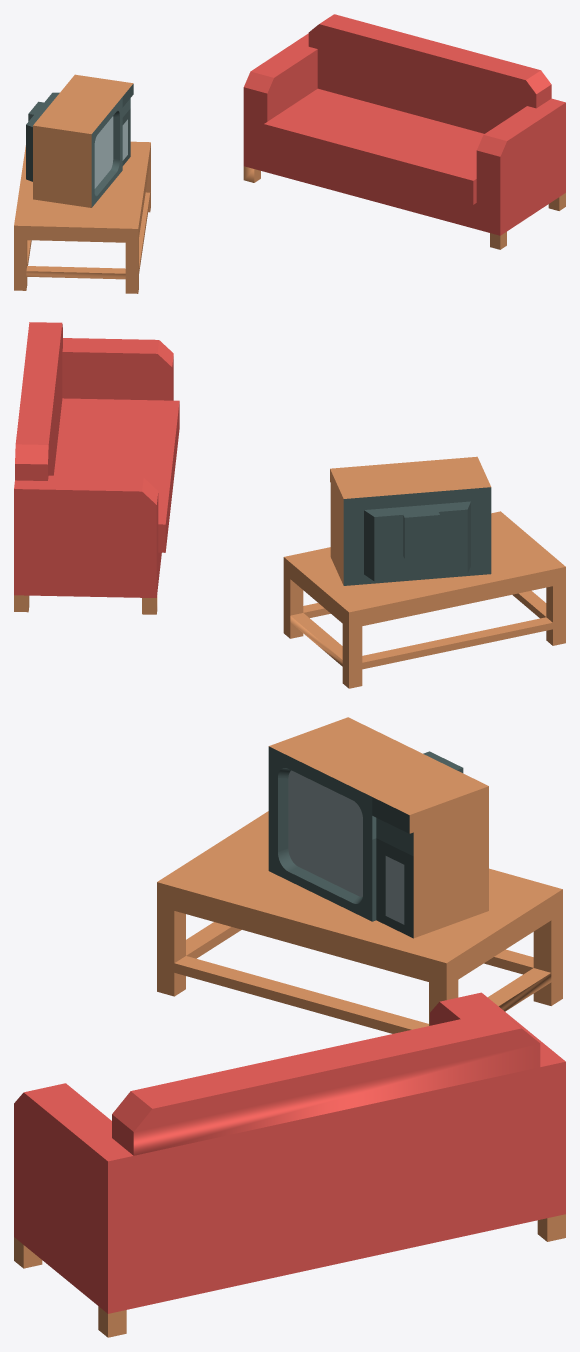
File: furnitures.obj
3 views of the same model, one above another, from view 1: azimuth 30°, elevation 25°; view 2: azimuth 150°, elevation 25°; view 3: azimuth 270°, elevation 25° (orthographic). The views are drawn at different scales.
Visible parts, largest first — view 1: loungeSofa, televisionVintage, tableCoffee; view 2: loungeSofa, tableCoffee, televisionVintage; view 3: loungeSofa, televisionVintage, tableCoffee.
Boxes of the visible parts, box(x1,y1,x2,y2) form: loungeSofa: box(243, 14, 565, 249); televisionVintage: box(26, 74, 133, 207); tableCoffee: box(14, 141, 150, 293); loungeSofa: box(14, 322, 179, 614); tableCoffee: box(283, 511, 565, 688); televisionVintage: box(330, 456, 491, 585); loungeSofa: box(14, 992, 565, 1337); televisionVintage: box(268, 717, 488, 938); tableCoffee: box(157, 811, 562, 1033).
Size of the model in its own units: 1.87 by 0.5031 by 1.05.
